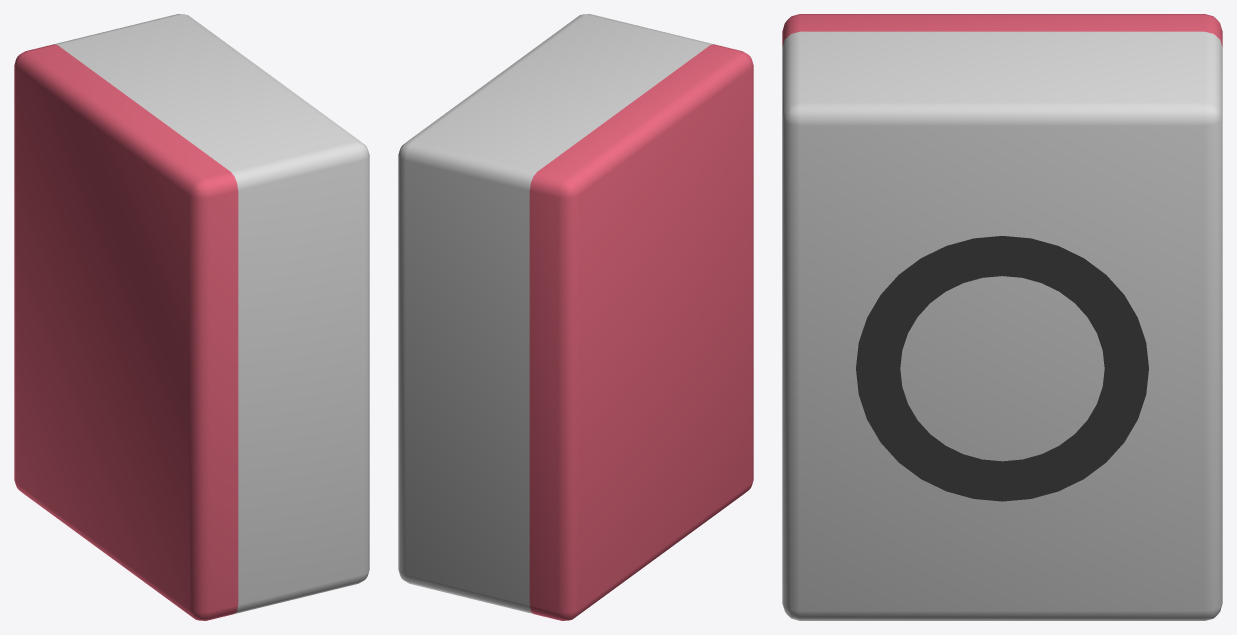
The picture shows the model from 3 angles, left to right: view 1: azimuth 30°, elevation 25°; view 2: azimuth 150°, elevation 25°; view 3: azimuth 270°, elevation 25°; orthographic projection. The views are drawn at different scales.
Visible parts, largest first — view 1: Cube; view 2: Cube; view 3: Cube.
Boxes of the visible parts, x1,y1,x2,y2 form: Cube: (14, 14, 369, 620); Cube: (398, 14, 753, 620); Cube: (782, 14, 1222, 620).
Bounding box in the file's own units: 110 × 259 × 200.
